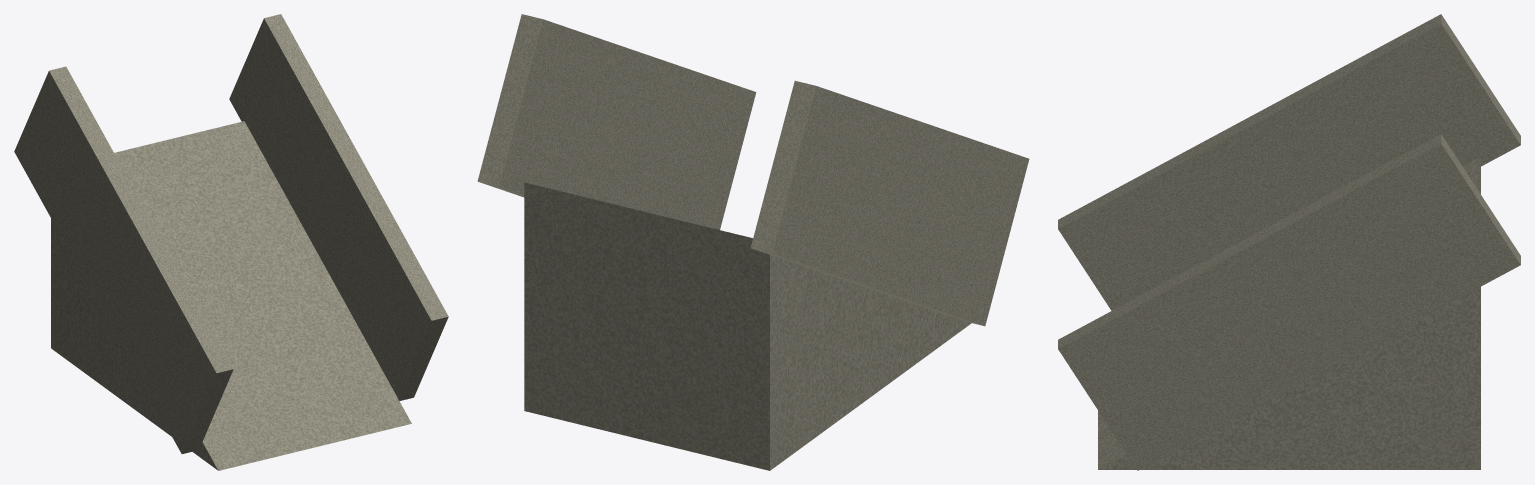
3 views of the same model, side by side, from view 1: azimuth 30°, elevation 25°; view 2: azimuth 150°, elevation 25°; view 3: azimuth 270°, elevation 25° (orthographic). The views are drawn at different scales.
Visible parts, largest first — view 1: COL_smooth_navigation_proxy, COL_guard, COL_guard.001; view 2: COL_smooth_navigation_proxy, COL_guard, COL_guard.001; view 3: COL_guard.001, COL_guard, COL_smooth_navigation_proxy.
Boxes of the visible parts, bbox=[...] form: COL_smooth_navigation_proxy: bbox=[51, 121, 411, 470]; COL_guard: bbox=[14, 66, 233, 453]; COL_guard.001: bbox=[229, 14, 448, 400]; COL_smooth_navigation_proxy: bbox=[524, 182, 971, 470]; COL_guard: bbox=[750, 80, 1029, 326]; COL_guard.001: bbox=[477, 14, 756, 229]; COL_guard.001: bbox=[1058, 134, 1520, 470]; COL_guard: bbox=[1058, 14, 1520, 310]; COL_smooth_navigation_proxy: bbox=[1098, 156, 1480, 469].
Size of the model in its own units: 2.16 by 2.62 by 3.26.
Materials: 1 (1 with a texture image).
